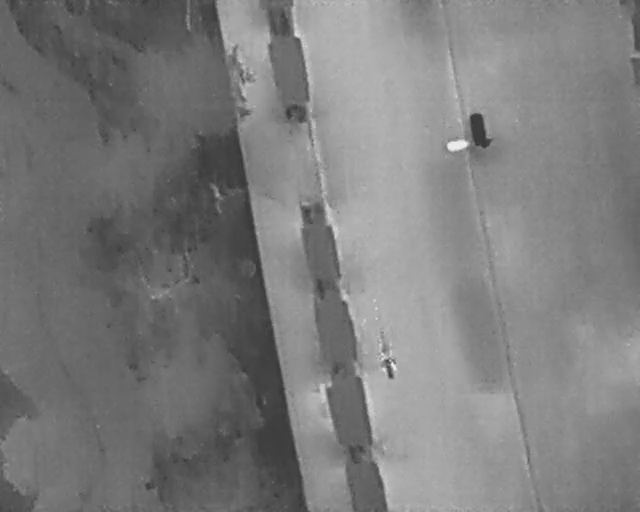Bicycle: (375, 343, 399, 382)
